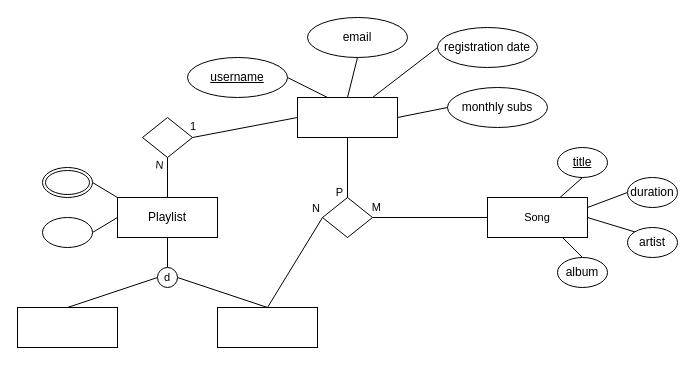
This 695x365 diagram has some shape labels left out. The centre of each missing label's shape, as x and y in pixels:
"Automated Playlist" goes at point (67, 327).
"name" goes at point (67, 232).
"tags" goes at point (67, 182).
"User" goes at point (347, 117).
"User Playlist" goes at point (267, 327).
